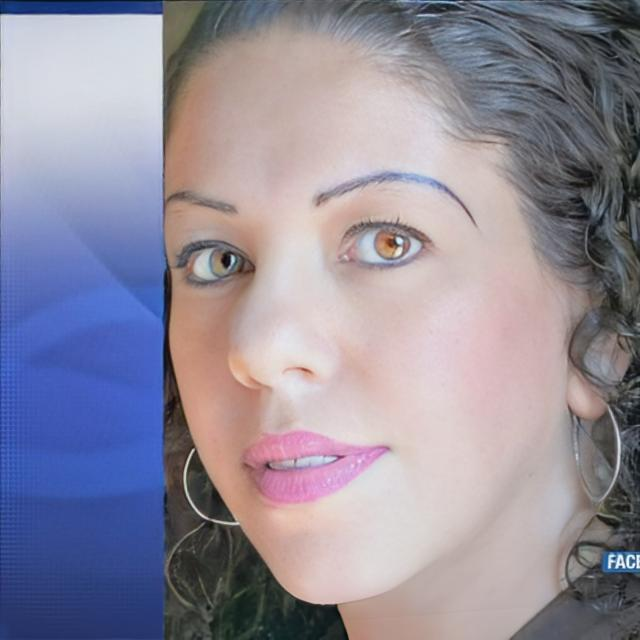neutral: (166, 39, 574, 605)
